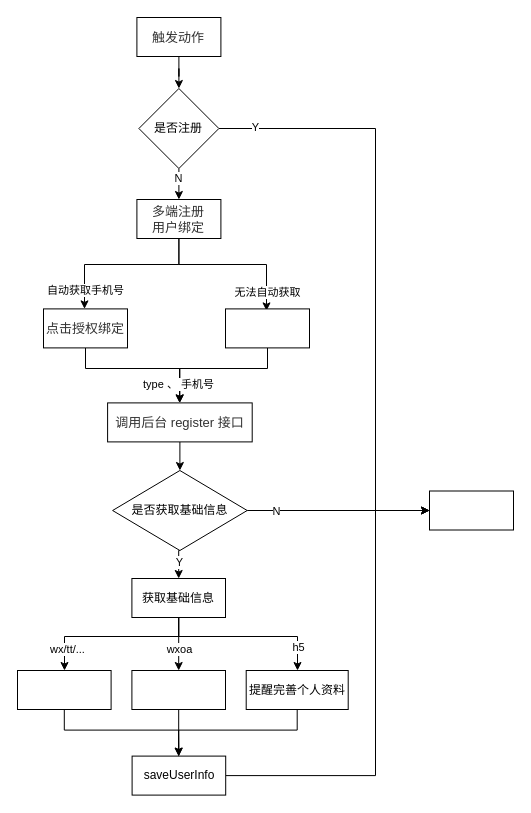
This 531x813 diagram has some shape labels left out. The centre of each missing label's shape, as x and y in pixels:
"OAuth snsapi_userinfo" belongs at [178,690].
"手动输入手机" belongs at [267,328].
"授权弹窗" belongs at [63,690].
"继续执行动作" belongs at [471,510].
